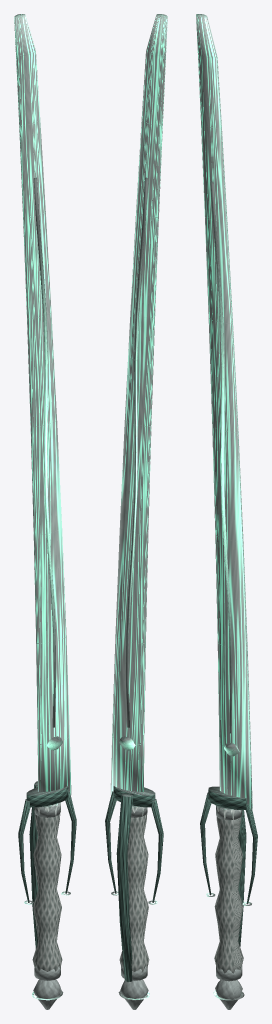
The model's file is sword_05_silver_anima.glb.
The picture shows the model from 3 angles, left to right: view 1: azimuth 30°, elevation 25°; view 2: azimuth 150°, elevation 25°; view 3: azimuth 330°, elevation 25°; orthographic projection.
Parts seen in each view (by area): view 1: Blade_SilverAnimaSaber, Grip_SilkWireWrap, Inlay_AnimaWispLines, Guard_AnimaSaberBow, Tassel_GhostSilk, Pommel_AnimaTeardrop, Ferrule_SilverFittings; view 2: Blade_SilverAnimaSaber, Grip_SilkWireWrap, Guard_AnimaSaberBow, Inlay_AnimaWispLines, Tassel_GhostSilk, Pommel_AnimaTeardrop, Ferrule_SilverFittings; view 3: Blade_SilverAnimaSaber, Grip_SilkWireWrap, Inlay_AnimaWispLines, Guard_AnimaSaberBow, Tassel_GhostSilk, Pommel_AnimaTeardrop, Ferrule_SilverFittings.
Part boxes in pixels (x1,y1,x2,y2): Blade_SilverAnimaSaber: (14,14,71,794); Grip_SilkWireWrap: (32,802,62,971); Inlay_AnimaWispLines: (33,177,55,727); Guard_AnimaSaberBow: (26,781,68,948); Tassel_GhostSilk: (18,791,76,904); Pommel_AnimaTeardrop: (32,979,63,1009); Ferrule_SilverFittings: (34,804,60,980); Blade_SilverAnimaSaber: (110,14,167,795); Grip_SilkWireWrap: (119,806,149,971); Guard_AnimaSaberBow: (113,786,155,981); Inlay_AnimaWispLines: (126,177,148,727); Tassel_GhostSilk: (105,791,163,904); Pommel_AnimaTeardrop: (118,979,149,1009); Ferrule_SilverFittings: (121,805,147,980); Blade_SilverAnimaSaber: (196,14,252,809); Grip_SilkWireWrap: (214,805,243,973); Inlay_AnimaWispLines: (210,181,232,733); Guard_AnimaSaberBow: (208,786,246,946); Tassel_GhostSilk: (200,792,257,905); Pommel_AnimaTeardrop: (213,980,244,1009); Ferrule_SilverFittings: (216,805,242,981).
Bounding box in the file's own units: 0.1699 × 2.6 × 0.107.
Materials: 1 (1 with a texture image).
